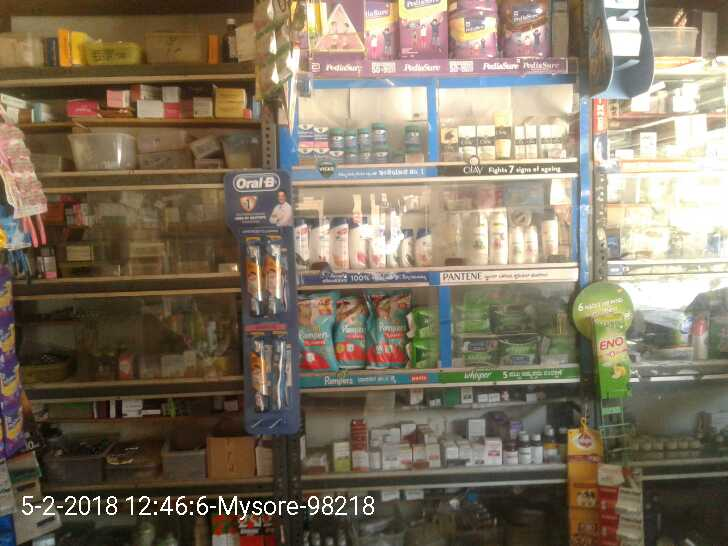beauty: (466, 210, 489, 267), (291, 216, 313, 274), (488, 208, 508, 265), (329, 215, 347, 270), (347, 216, 366, 268), (474, 120, 495, 163), (538, 219, 559, 262), (455, 125, 478, 162), (311, 219, 328, 269), (415, 227, 435, 266), (366, 226, 384, 265), (437, 125, 457, 160), (524, 223, 540, 263), (509, 225, 524, 264), (397, 230, 412, 264), (510, 128, 524, 159), (525, 127, 537, 157)
pharmacy: (366, 291, 416, 371), (301, 296, 334, 376), (335, 298, 369, 370), (247, 338, 273, 411), (263, 241, 291, 307), (269, 344, 291, 411), (496, 334, 535, 369), (246, 241, 264, 310), (492, 306, 532, 335), (459, 336, 497, 366), (453, 306, 492, 332), (402, 125, 426, 145), (299, 121, 317, 147), (373, 142, 390, 162), (330, 126, 346, 146), (372, 123, 387, 143), (345, 129, 357, 148), (317, 125, 327, 147), (358, 127, 370, 145)
